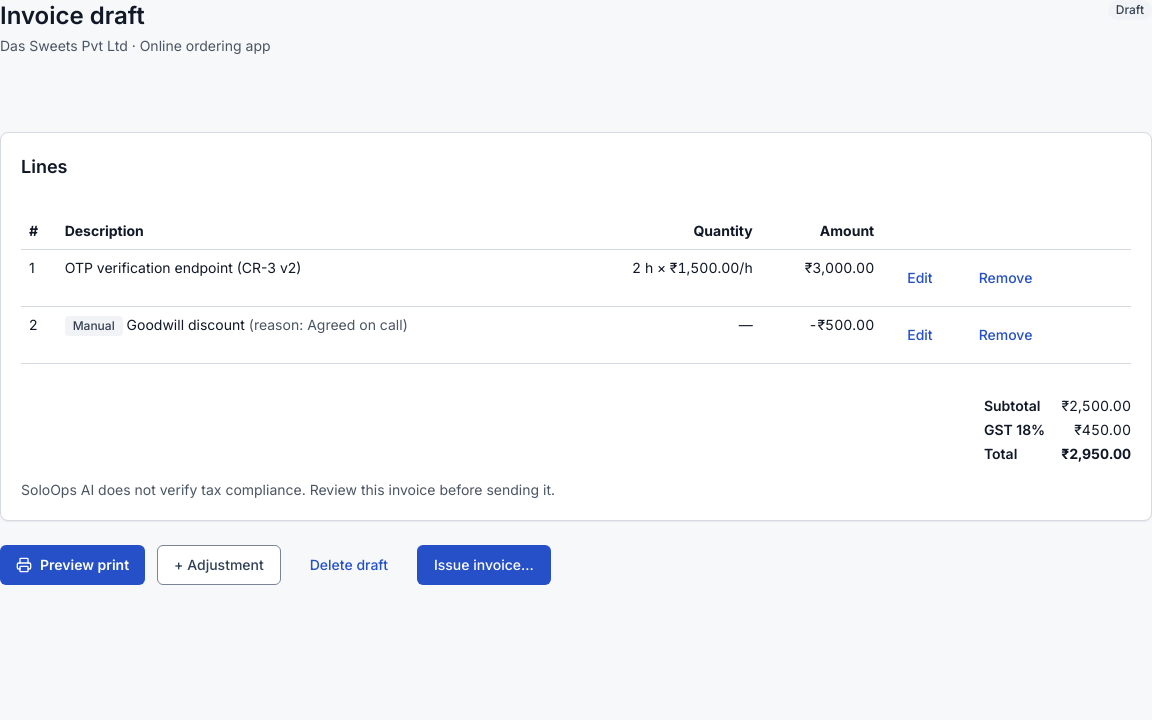
Test: S-11 issue and void (FR-044, FR-046) › CT-INV-08 AC-020.4 lines that are no longer eligible are highlighted with the reason
Click the button "Issue invoice…" at x=484, y=565, box x1=417 y1=545 x2=551 y2=585
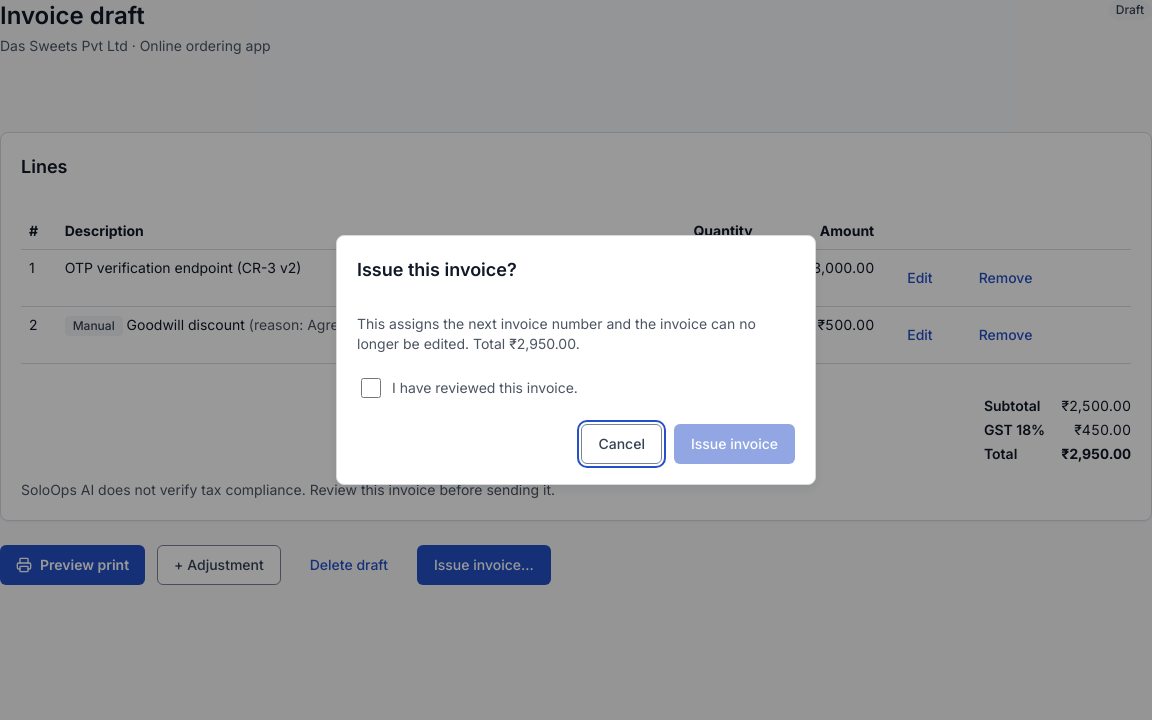
Click the checkbox labelled "I have reviewed this invoice." at x=371, y=388, box x1=361 y1=378 x2=381 y2=398
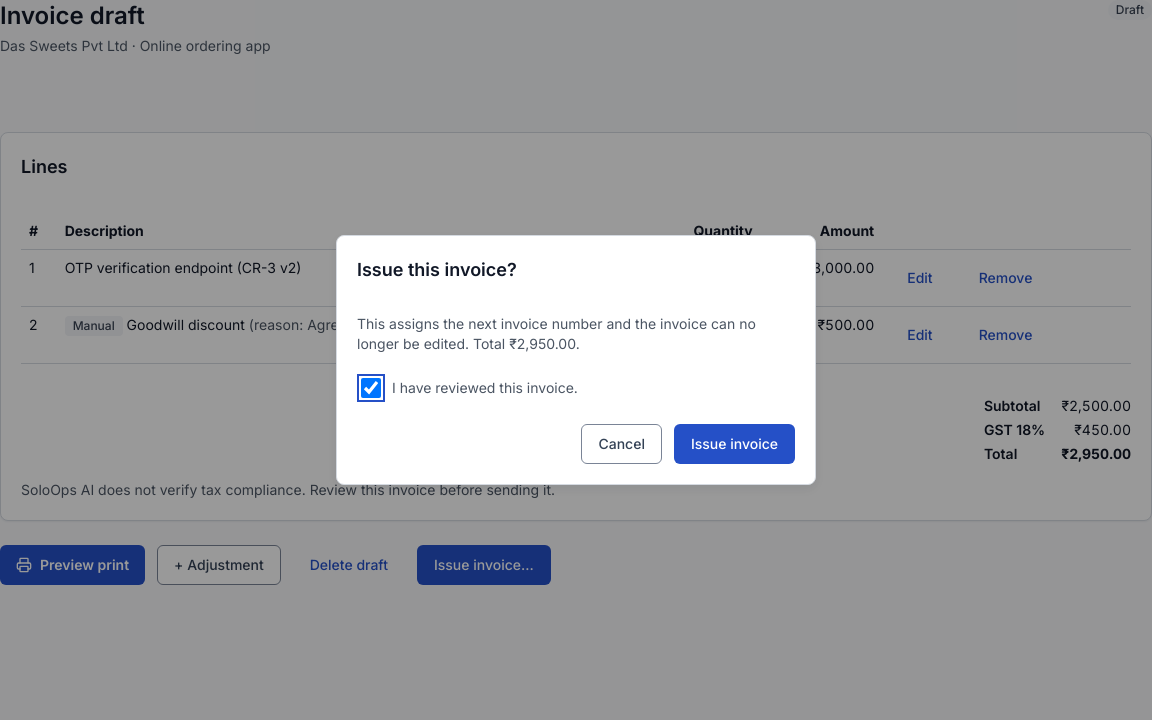
Click the button "Issue invoice" at x=734, y=444, box x1=674 y1=424 x2=795 y2=464
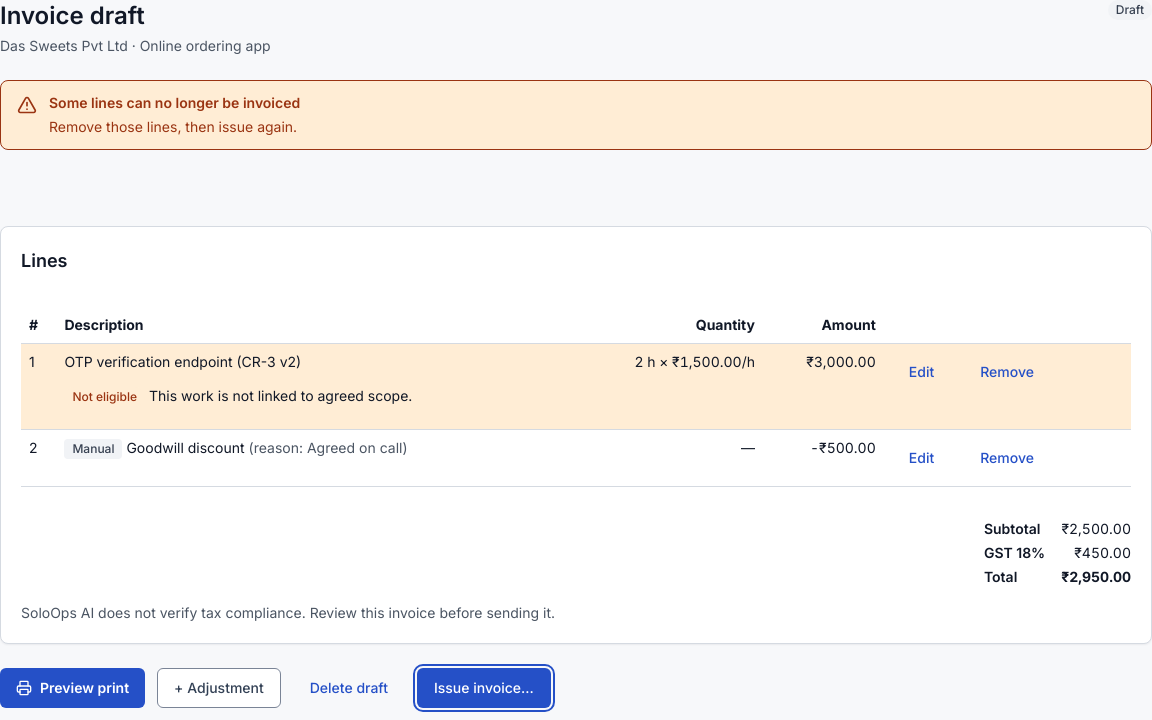
Expected: the text "Some lines can no longer be invoiced" is shown, x1=49 y1=94 x2=300 y2=111
Expected: the text "Not eligible" is shown, x1=64 y1=387 x2=145 y2=407
Expected: the text "This work is not linked to agreed scope." is shown, x1=149 y1=387 x2=412 y2=404
